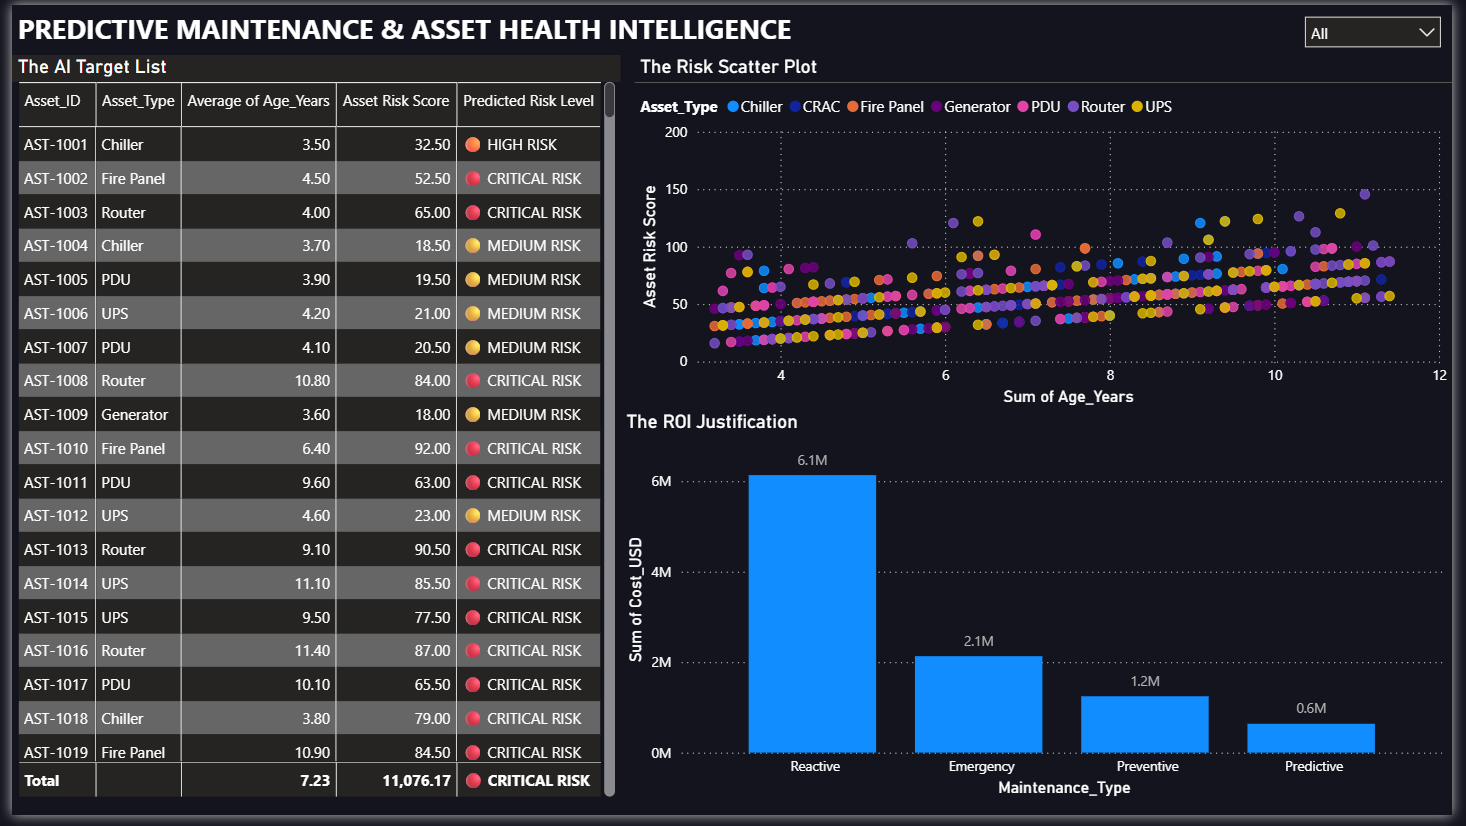

The dashboard page shown, as its layout file describes it:
{"tool":"powerbi","page":{"name":"PREDICTIVE MAINTENANCE & ASSET HEALTH","canvas":[1280,720],"ordinal":1},"visuals":[{"type":"textbox","box":[0,0,708.1,43.9],"z":0},{"type":"tableEx","title":"The AI Target List","fields":{"Values":["Asset_Inventory.Asset_ID","Asset_Inventory.Asset_Type","Avg(Asset_Inventory.Age_Years)","Asset_Inventory.Asset Risk Score","Asset_Inventory.Predicted Risk Level"]},"box":[0,43.9,540.7,664.2],"z":1000},{"type":"slicer","fields":{"Values":["Facility_Master.Facility_ID"]},"box":[1138.9,0,141.3,43.9],"z":2000},{"type":"scatterChart","title":"The Risk Scatter Plot","fields":{"X":["Sum(Asset_Inventory.Age_Years)"],"Y":["Asset_Inventory.Asset Risk Score"],"Category":["Asset_Inventory.Asset_ID"],"Series":["Asset_Inventory.Asset_Type"]},"box":[553,43.9,727.3,315.6],"z":3000},{"type":"clusteredColumnChart","title":"The ROI Justification","fields":{"Category":["Maintenance.Maintenance_Type"],"Y":["Sum(Maintenance.Cost_USD)"]},"box":[540.7,359.5,739.6,348.5],"z":4000}]}

Visuals, with their boxes in screenshot pixels (x1, y1, x2, y2), scaled from the page's 1280x720 canvas onto the 1466x826 screenshot:
textbox: bbox=[0, 0, 811, 50]
"The AI Target List" tableEx: bbox=[0, 50, 619, 812]
slicer - Facility_Master.Facility_ID: bbox=[1304, 0, 1465, 50]
"The Risk Scatter Plot" scatterChart: bbox=[633, 50, 1465, 412]
"The ROI Justification" clusteredColumnChart: bbox=[619, 412, 1465, 812]
